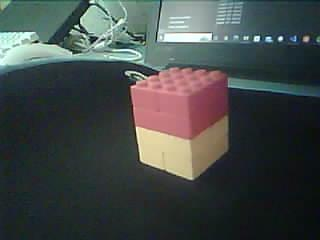lego: (129, 65, 229, 182)
